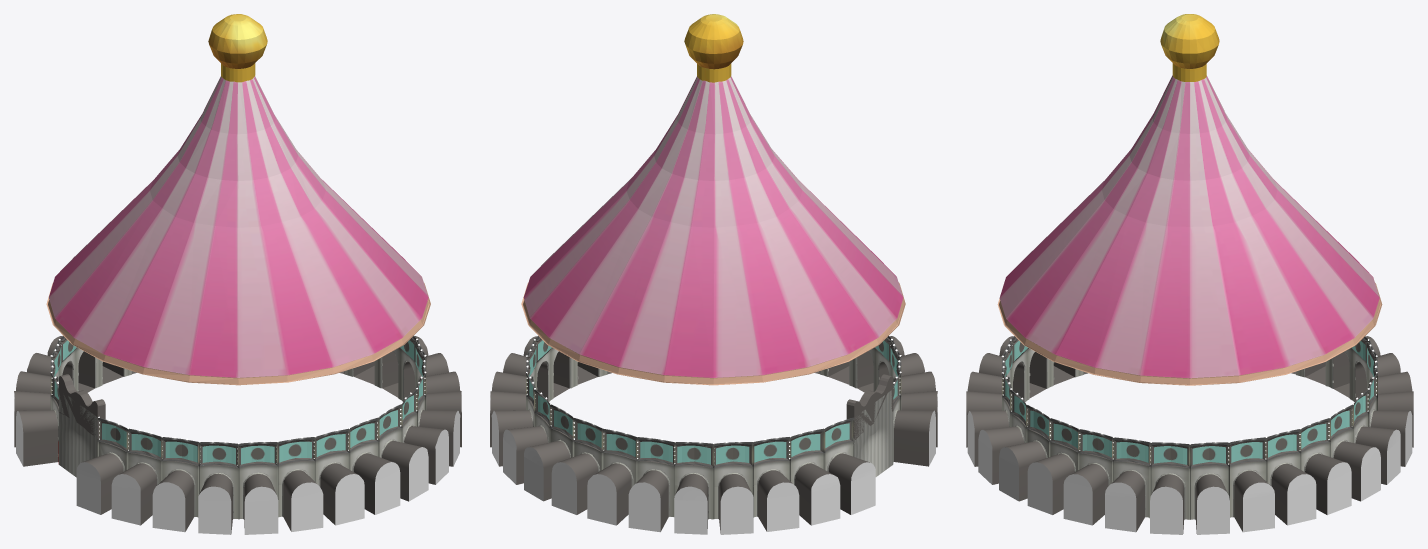
File: MapCarouse.fbx
3 views of the same model, side by side, from view 1: azimuth 30°, elevation 25°; view 2: azimuth 150°, elevation 25°; view 3: azimuth 270°, elevation 25° (orthographic).
Visible parts, largest first — view 1: MapCarouse; view 2: MapCarouse; view 3: MapCarouse.
Boxes of the visible parts, x1=… form: MapCarouse: x1=14, y1=14, x2=461, y2=534; MapCarouse: x1=490, y1=14, x2=937, y2=534; MapCarouse: x1=966, y1=14, x2=1413, y2=534.
Size of the model in its own units: 7053 by 7446 by 7151.
